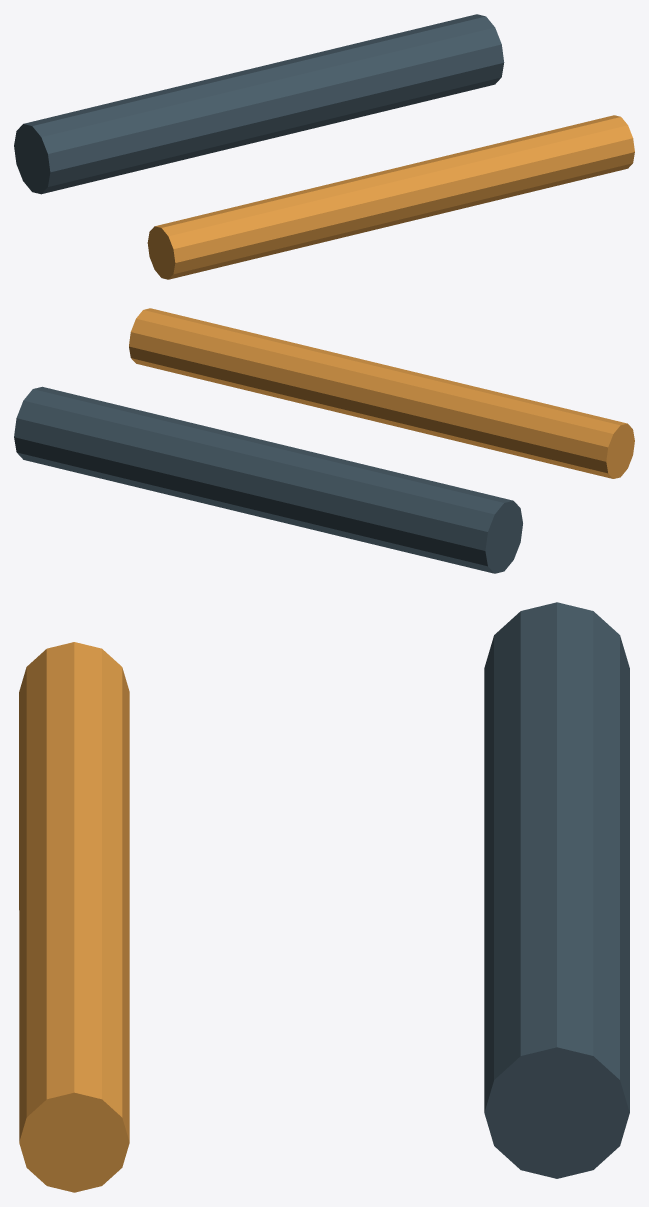
File: трубы 2.fbx
3 renders of one model, top to bottom at view 1: azimuth 30°, elevation 25°; view 2: azimuth 150°, elevation 25°; view 3: azimuth 270°, elevation 25°, orthographic. The views are drawn at different scales.
Visible parts, largest first — view 1: group2148647, group414090621; view 2: group2148647, group414090621; view 3: group2148647, group414090621.
Part boxes in pixels (box(x1,y1,x2,y2)): group2148647: box(14, 14, 504, 194); group414090621: box(147, 115, 634, 279); group2148647: box(14, 386, 522, 573); group414090621: box(129, 308, 634, 478); group2148647: box(484, 602, 629, 1178); group414090621: box(19, 642, 129, 1192).
Bounding box in the file's own units: 372 × 50.78 × 210.
